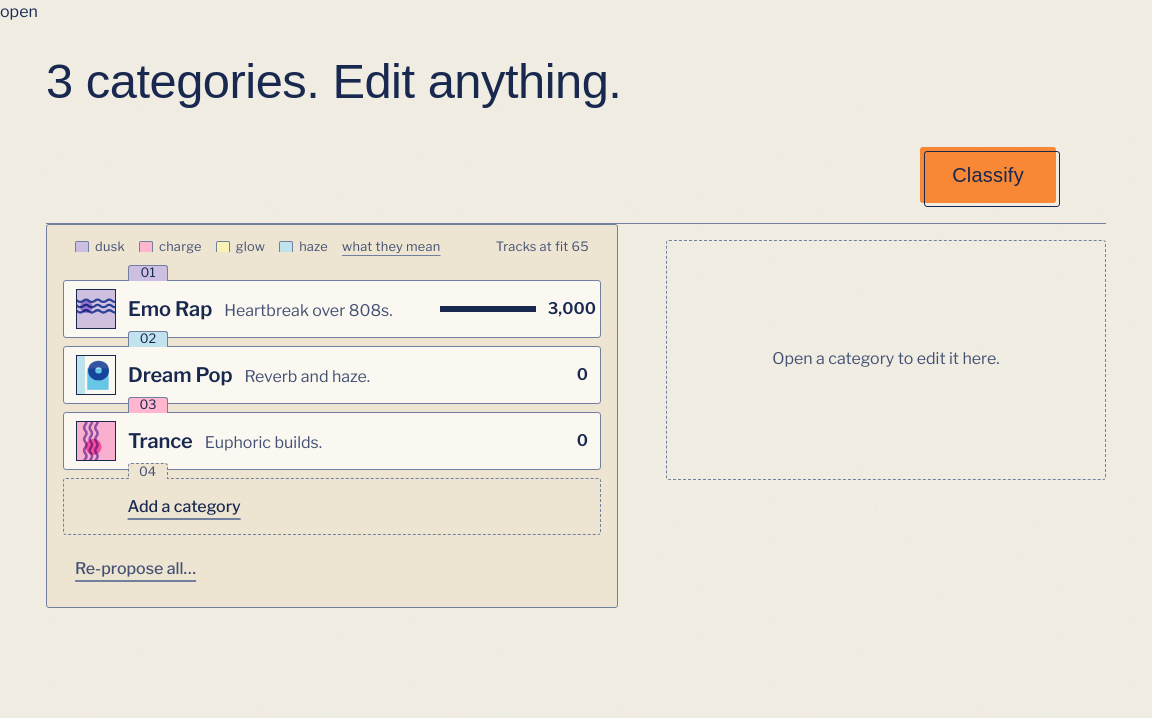
/review with saved categories › puts an emptied name back when you leave the field
Click the button "Dream Pop Reverb and haze. 0": [332, 375] box [64, 347, 600, 403]
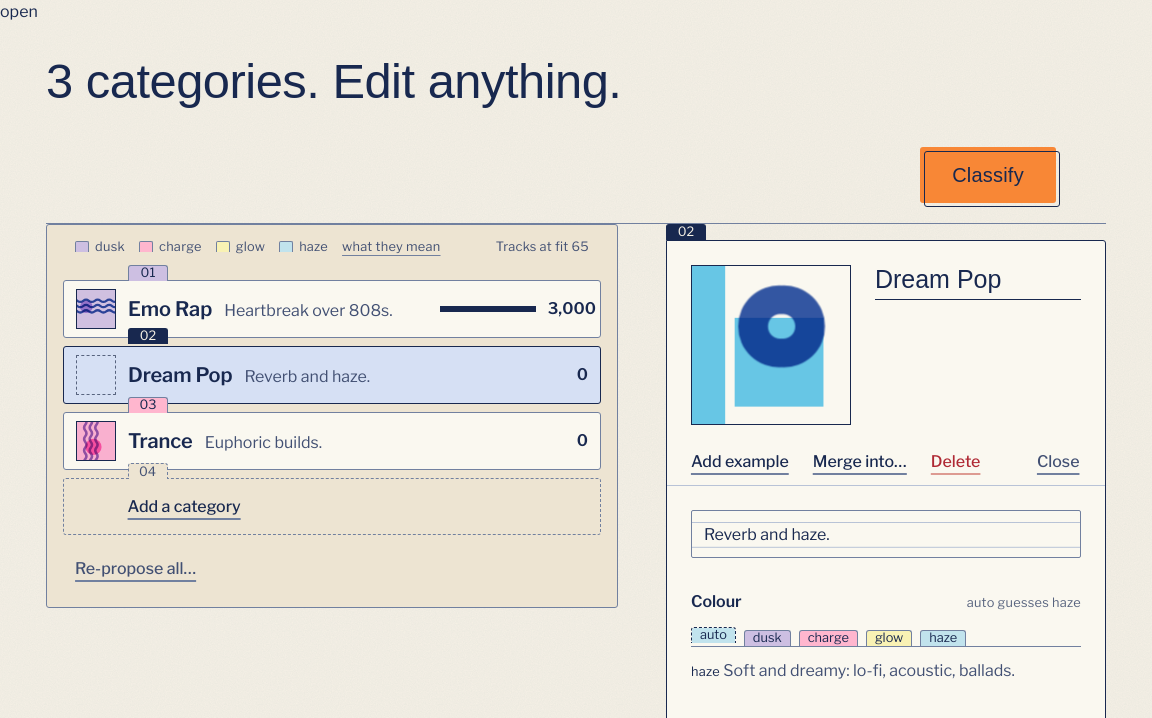
Clear the text box named "Category name": [978, 282] box [875, 265, 1081, 300]
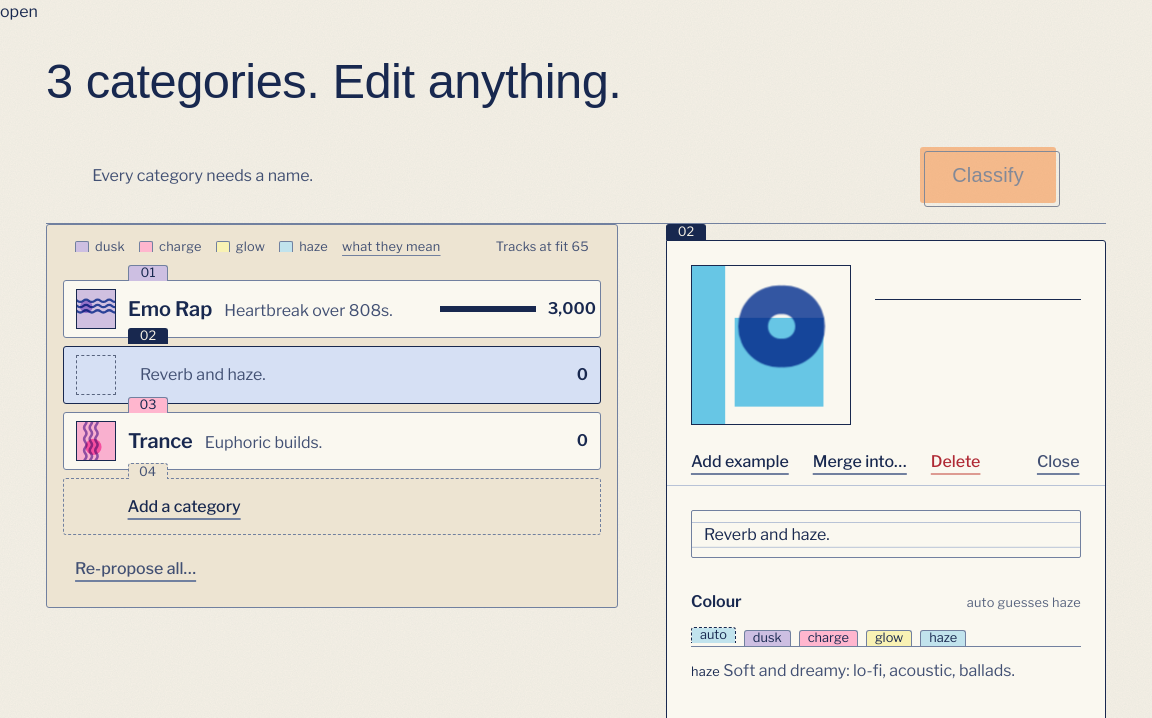
Press Tab
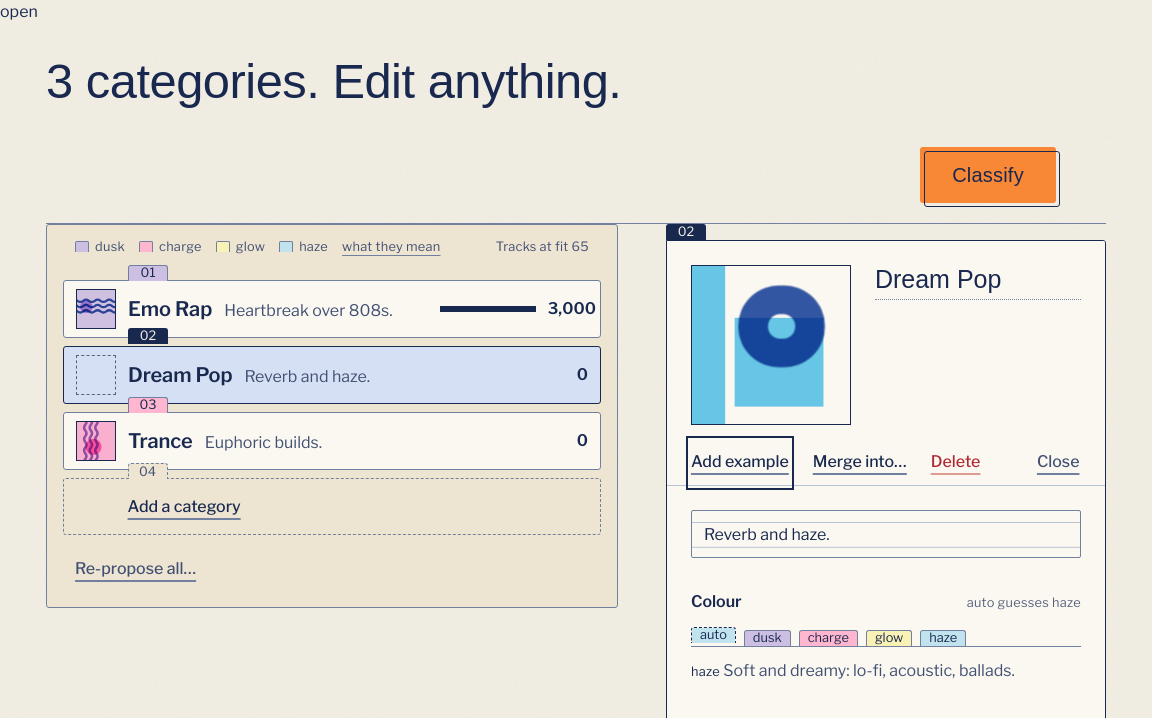
expect the text box named "Category name" holds "Dream Pop": met, box [875, 265, 1081, 300]
expect the button "Classify" is enabled: met, box [920, 147, 1056, 203]
